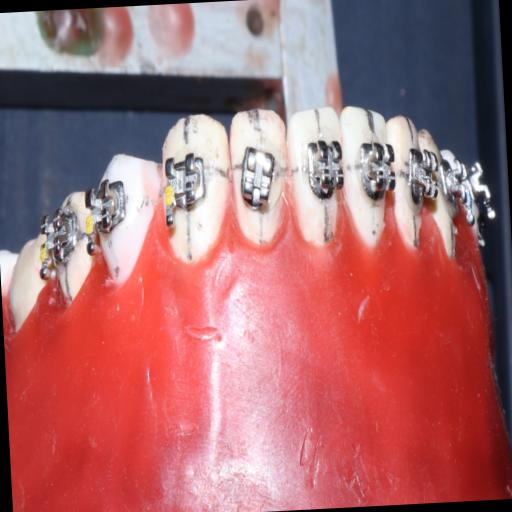correct_brace: (302, 132, 349, 204)
incorrect_brace: (226, 101, 292, 254), (158, 140, 213, 238), (236, 143, 282, 213)
